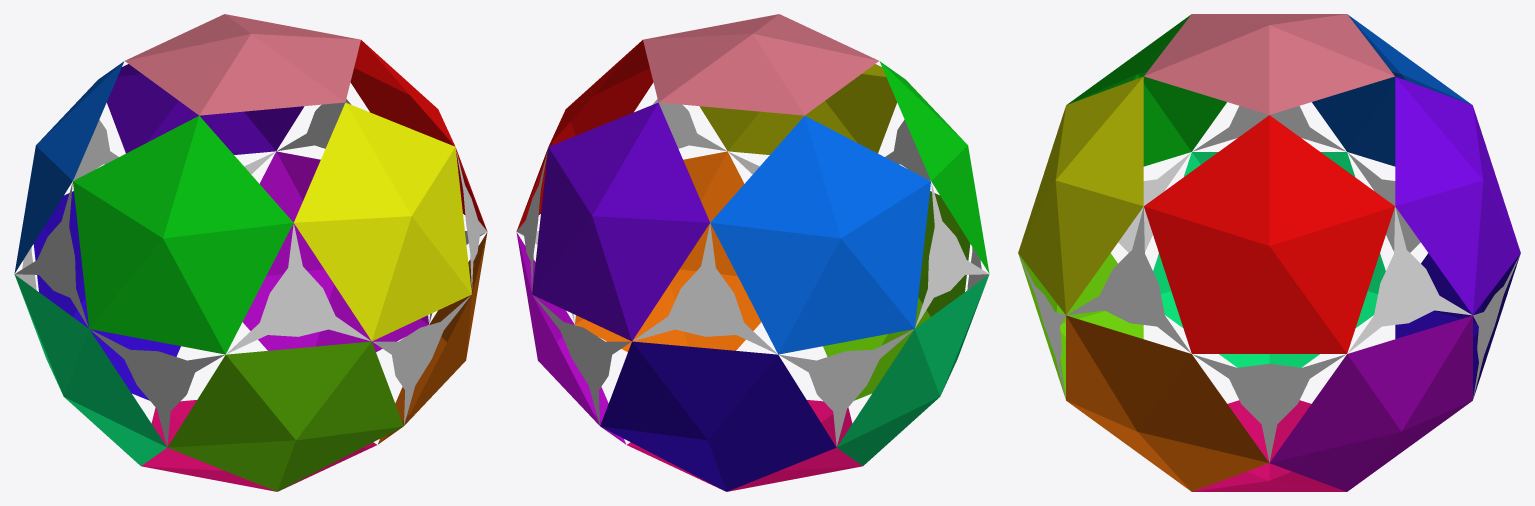
The picture shows the model from 3 angles, left to right: view 1: azimuth 30°, elevation 25°; view 2: azimuth 150°, elevation 25°; view 3: azimuth 270°, elevation 25°; orthographic projection. The views are drawn at different scales.
Visible parts, largest first — view 1: E, D, A, F, B, Ab, Eb, Gb, C, MiddleRingInner6, G, Db (+7 smaller); view 2: Gb, Ab, Db, F, B, D, G, E, C, MiddleRingInner2, Eb, A (+7 smaller); view 3: C, Eb, G, D, Ab, F, Gb, E, MiddleRingInner9, MiddleRingInner10, MiddleRingInner8, Bb (+8 smaller).
Boxes of the visible parts, <box> form: E: <box>73,116,293,354</box>; D: <box>294,102,471,341</box>; A: <box>167,341,403,491</box>; F: <box>125,14,360,115</box>; B: <box>15,275,166,465</box>; Ab: <box>107,64,304,154</box>; Eb: <box>242,151,428,351</box>; Gb: <box>14,61,124,273</box>; C: <box>350,40,486,230</box>; MiddleRingInner6: <box>227,223,370,353</box>; G: <box>377,232,487,444</box>; Db: <box>33,191,180,400</box>; Gb: <box>710,116,930,354</box>; Ab: <box>532,102,709,341</box>; Db: <box>600,341,836,491</box>; F: <box>643,14,878,115</box>; B: <box>837,275,988,465</box>; D: <box>699,64,896,154</box>; G: <box>575,151,761,351</box>; E: <box>879,61,989,273</box>; C: <box>517,40,653,230</box>; MiddleRingInner2: <box>633,223,776,353</box>; Eb: <box>516,232,626,444</box>; A: <box>823,191,970,400</box>; C: <box>1144,115,1394,353</box>; Eb: <box>1270,315,1472,491</box>; G: <box>1066,315,1268,491</box>; D: <box>1018,76,1143,314</box>; Ab: <box>1395,76,1520,314</box>; F: <box>1144,14,1394,114</box>; Gb: <box>1312,14,1471,166</box>; E: <box>1067,14,1226,166</box>; MiddleRingInner9: <box>1192,354,1346,462</box>; MiddleRingInner10: <box>1347,207,1471,353</box>; MiddleRingInner8: <box>1067,207,1191,353</box>; Bb: <box>1192,400,1346,491</box>.
Size of the model in its own units: 1.9 by 2 by 2.
